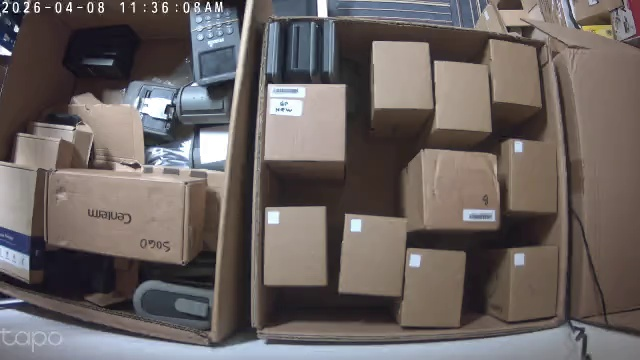box: (398, 147, 500, 232), (263, 82, 346, 162), (337, 212, 407, 298), (482, 244, 558, 323), (369, 39, 434, 130), (398, 247, 466, 328), (262, 205, 328, 287), (265, 16, 335, 83), (499, 137, 557, 214), (432, 59, 492, 133), (483, 37, 543, 108)
